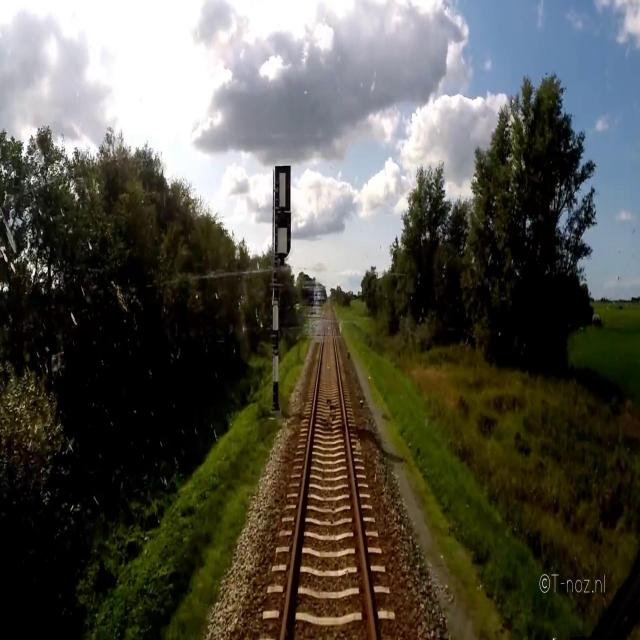rail-track: (285, 306, 372, 639)
